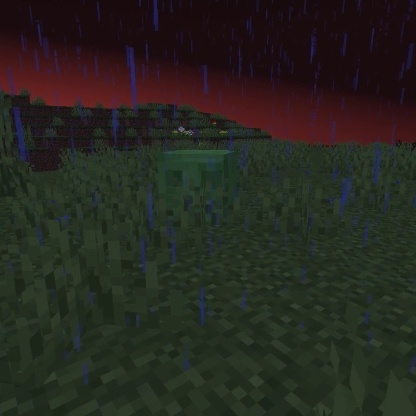slime: (154, 147, 239, 210)
